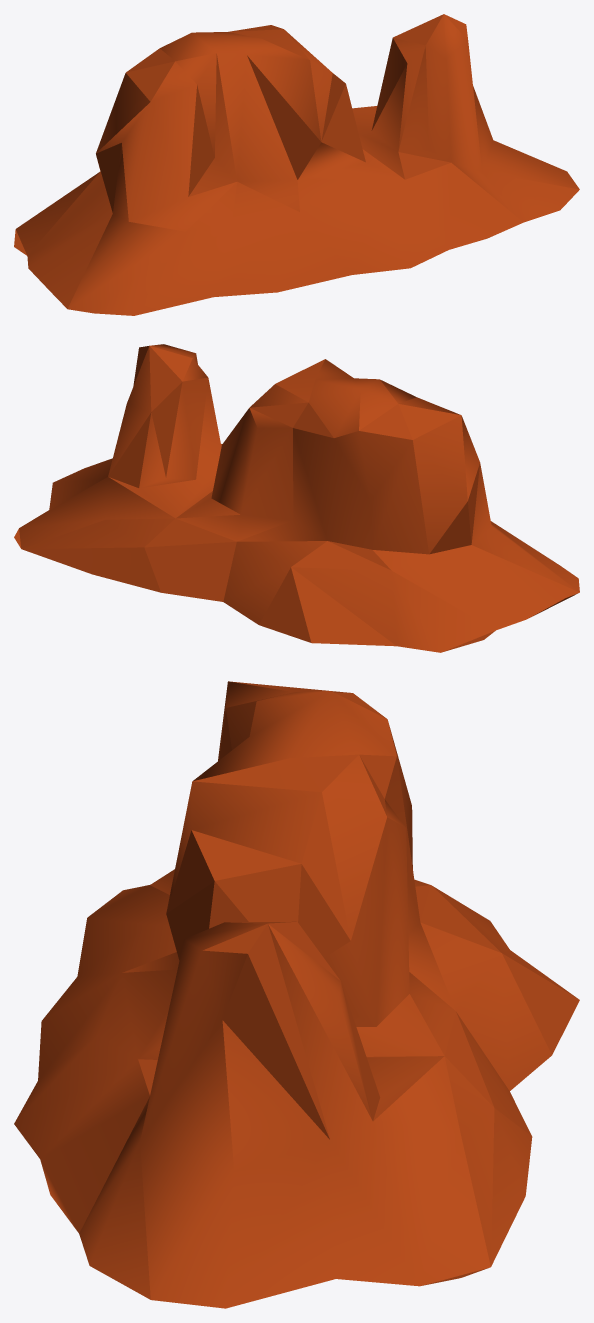
Rendered from Plateau_desert_003.glb.
3 views of the same model, one above another, from view 1: azimuth 30°, elevation 25°; view 2: azimuth 150°, elevation 25°; view 3: azimuth 270°, elevation 25° (orthographic). The views are drawn at different scales.
Visible parts, largest first — view 1: Plateau_desert_003; view 2: Plateau_desert_003; view 3: Plateau_desert_003.
Boxes of the visible parts, x1,y1,x2,y2 form: Plateau_desert_003: [14, 14, 579, 315]; Plateau_desert_003: [14, 344, 579, 652]; Plateau_desert_003: [14, 681, 579, 1308].
Size of the model in its own units: 54.68 by 20.15 by 30.78.
1 material, 1 textured.
